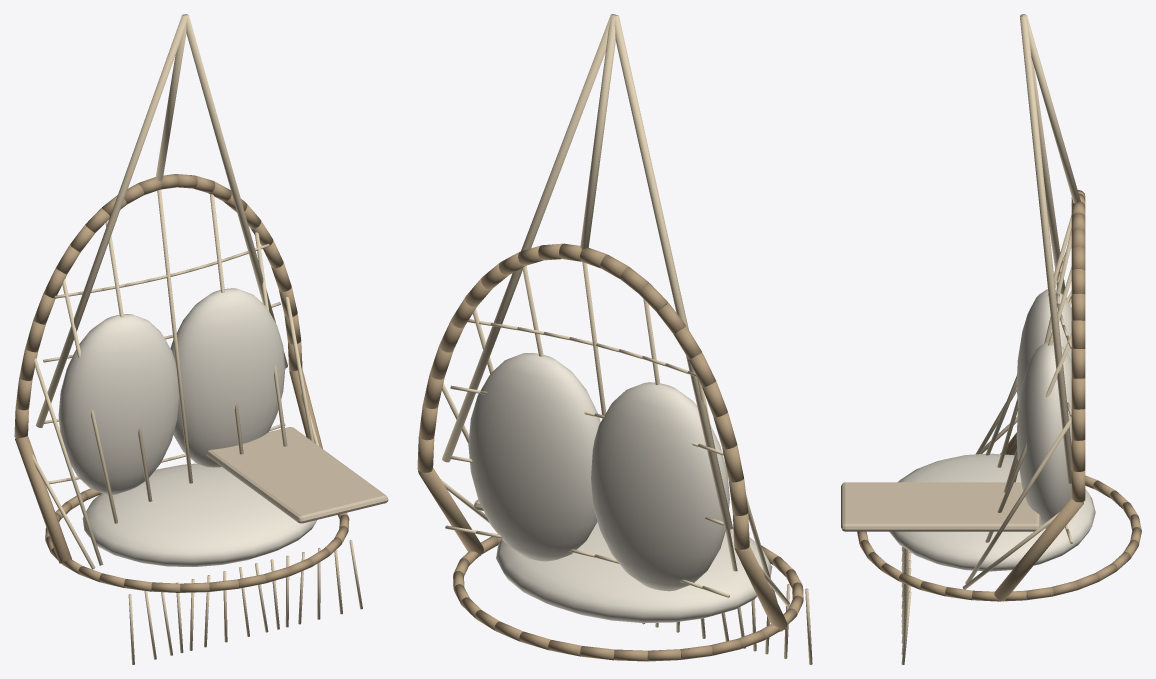
The model's file is macrame-chair.glb.
3 views of the same model, side by side, from view 1: azimuth 30°, elevation 25°; view 2: azimuth 150°, elevation 25°; view 3: azimuth 270°, elevation 25° (orthographic). The views are drawn at different scales.
Visible parts, largest first — view 1: Wrapped seat ring; view 2: Wrapped seat ring; view 3: Wrapped seat ring.
Part boxes in pixels (x1,y1,x2,y2): Wrapped seat ring: [14, 14, 388, 664]; Wrapped seat ring: [417, 14, 812, 664]; Wrapped seat ring: [841, 14, 1141, 664].
Size of the model in its own units: 0.98 by 1.89 by 0.8739.
